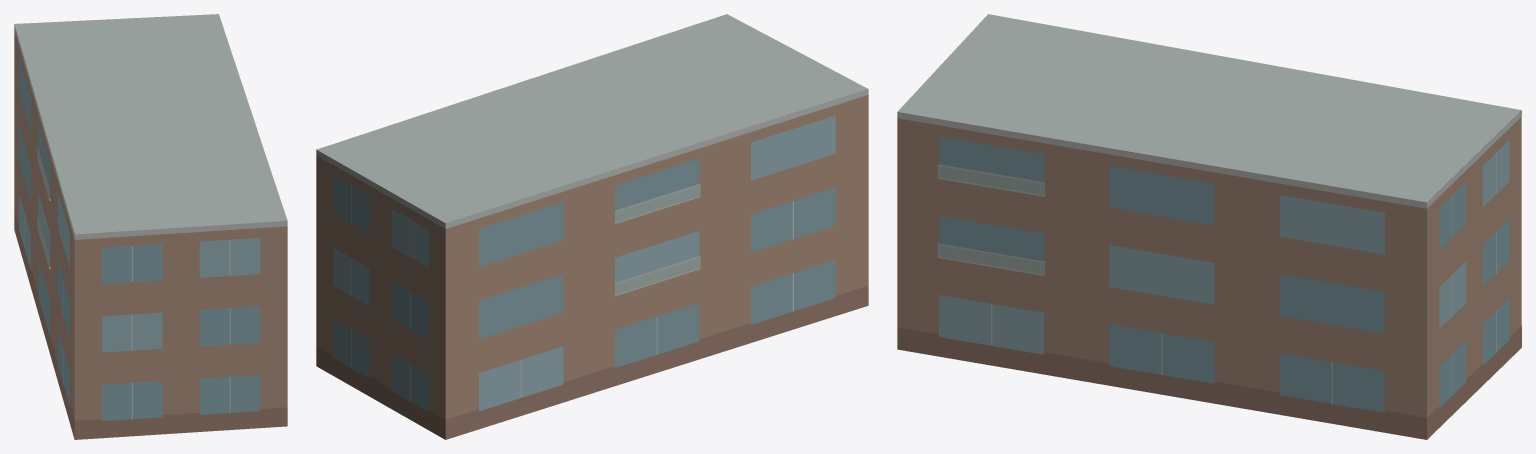
File: survey-upis-32909509.glb
3 renders of one model, left to right at view 1: azimuth 30°, elevation 25°; view 2: azimuth 150°, elevation 25°; view 3: azimuth 270°, elevation 25°, orthographic. The views are drawn at different scales.
Visible parts, largest first — view 1: survey-upis-32909509.tmp; view 2: survey-upis-32909509.tmp; view 3: survey-upis-32909509.tmp.
Boxes of the visible parts, x1,y1,x2,y2 form: survey-upis-32909509.tmp: (14, 14, 287, 439); survey-upis-32909509.tmp: (316, 14, 868, 439); survey-upis-32909509.tmp: (897, 14, 1521, 439).
Bounding box in the file's own units: 15.57 × 9.15 × 21.81.
